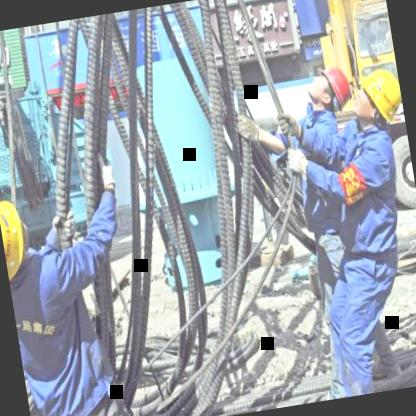helmet: (352, 64, 406, 132), (0, 193, 36, 277), (305, 68, 353, 113)
